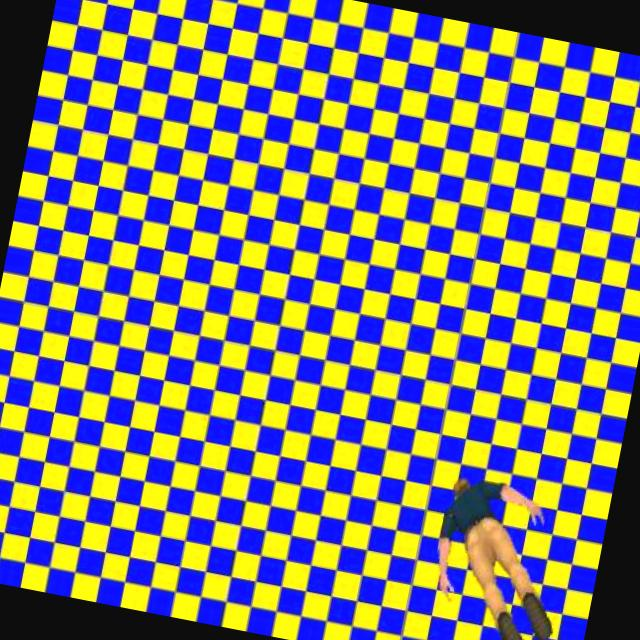Person: (414, 469, 582, 640)
